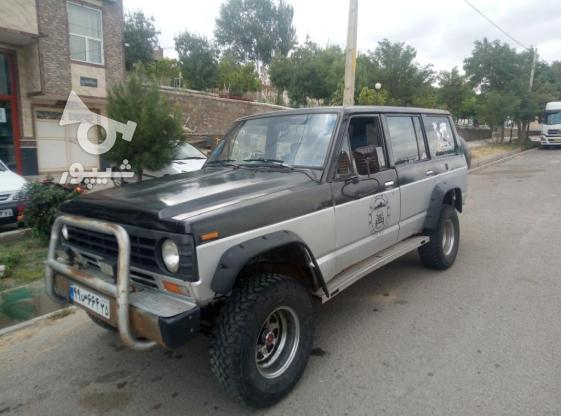car: (69, 280, 114, 325)
